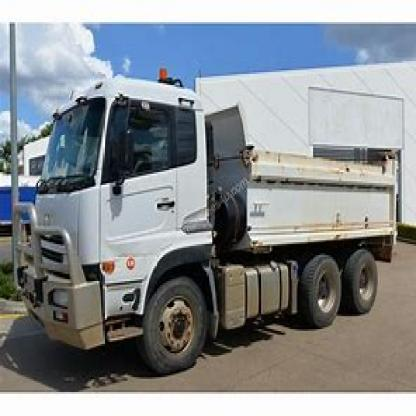dump_truck: (18, 59, 406, 368)
